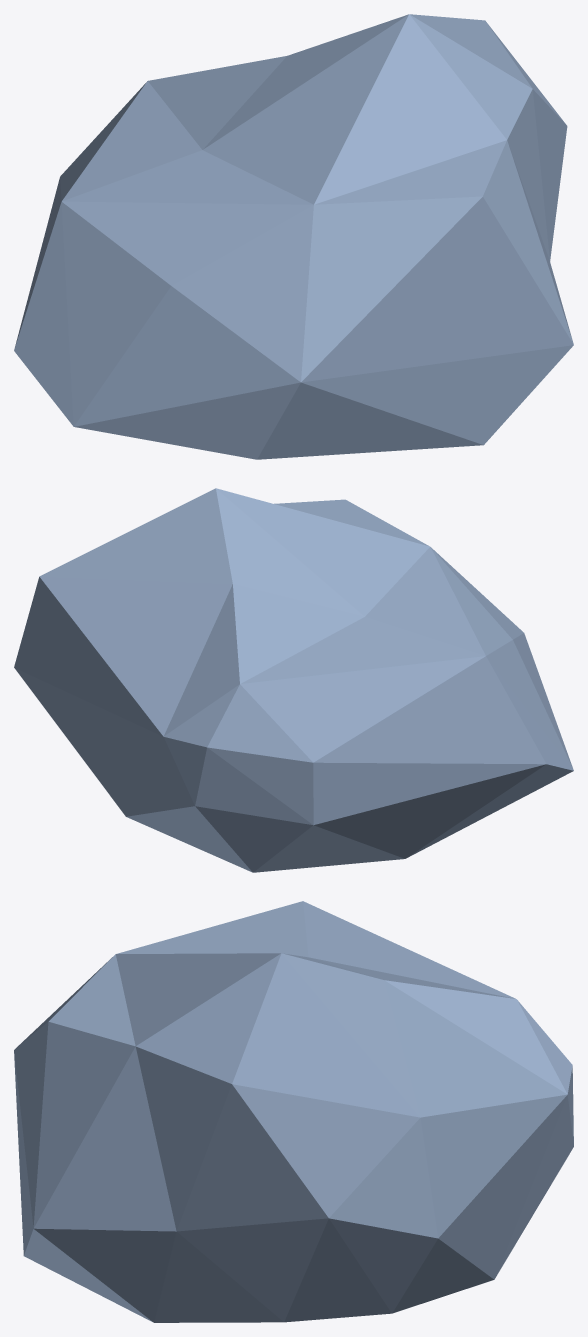
The model's file is cloudB.FBX.
3 views of the same model, one above another, from view 1: azimuth 30°, elevation 25°; view 2: azimuth 150°, elevation 25°; view 3: azimuth 270°, elevation 25° (orthographic). The views are drawn at different scales.
Parts seen in each view (by area): view 1: cloudB; view 2: cloudB; view 3: cloudB.
Part boxes in pixels (x1=…): cloudB: x1=14, y1=14, x2=573, y2=459; cloudB: x1=14, y1=488, x2=573, y2=872; cloudB: x1=14, y1=901, x2=573, y2=1322.
Bounding box in the file's own units: 24.71 × 15.95 × 20.45.
